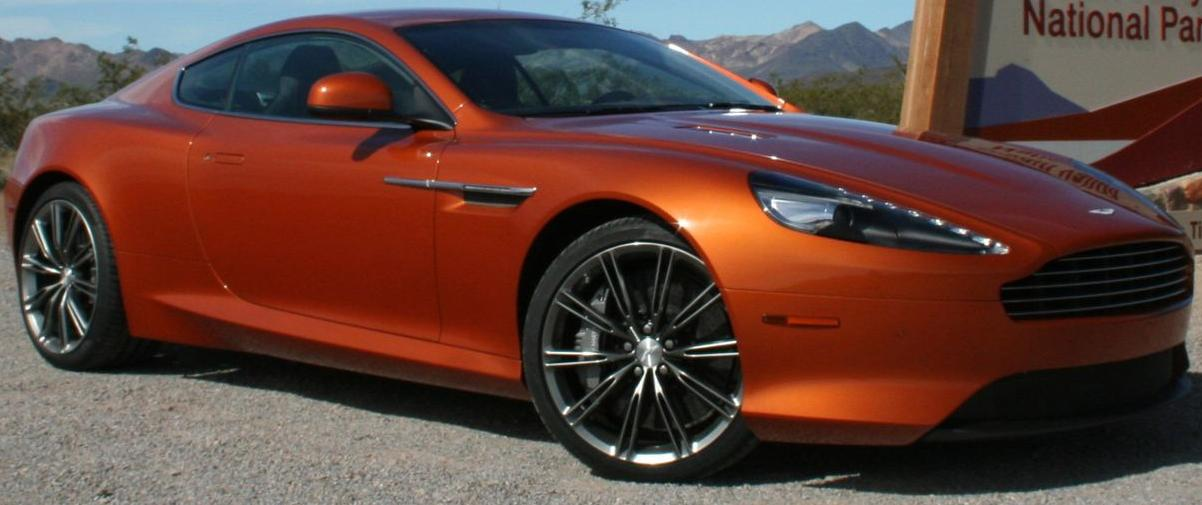front_view: (717, 141, 1198, 450)
headlight: (750, 161, 999, 262)
side_glass: (167, 29, 444, 125)
